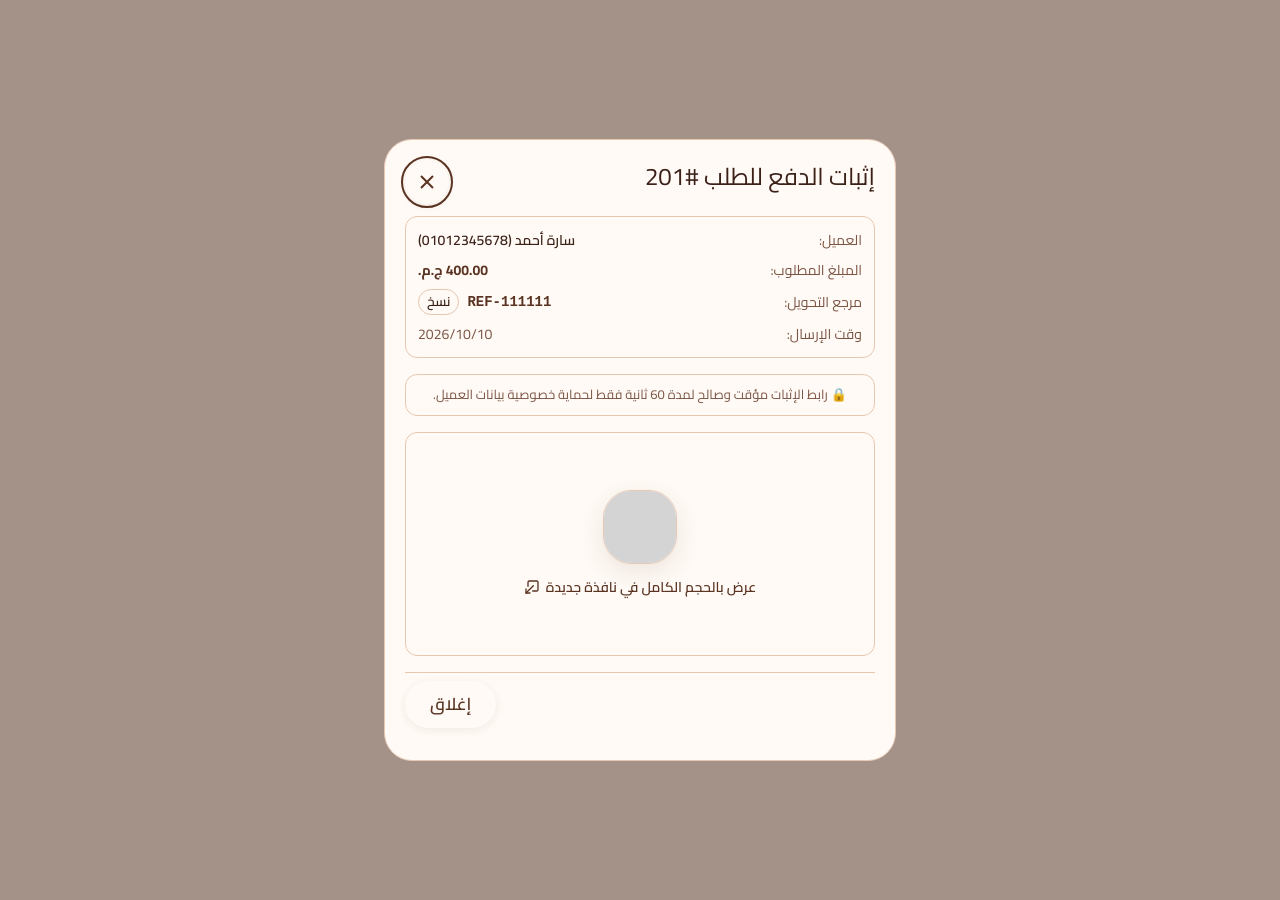
Scenario: ProofViewerModal standalone › renders copy reference button and allows copy
Expected: the text "REF-111111" is shown, [467,291,551,313]
Click the button "نسخ" at (439, 302), box [418,289,459,315]
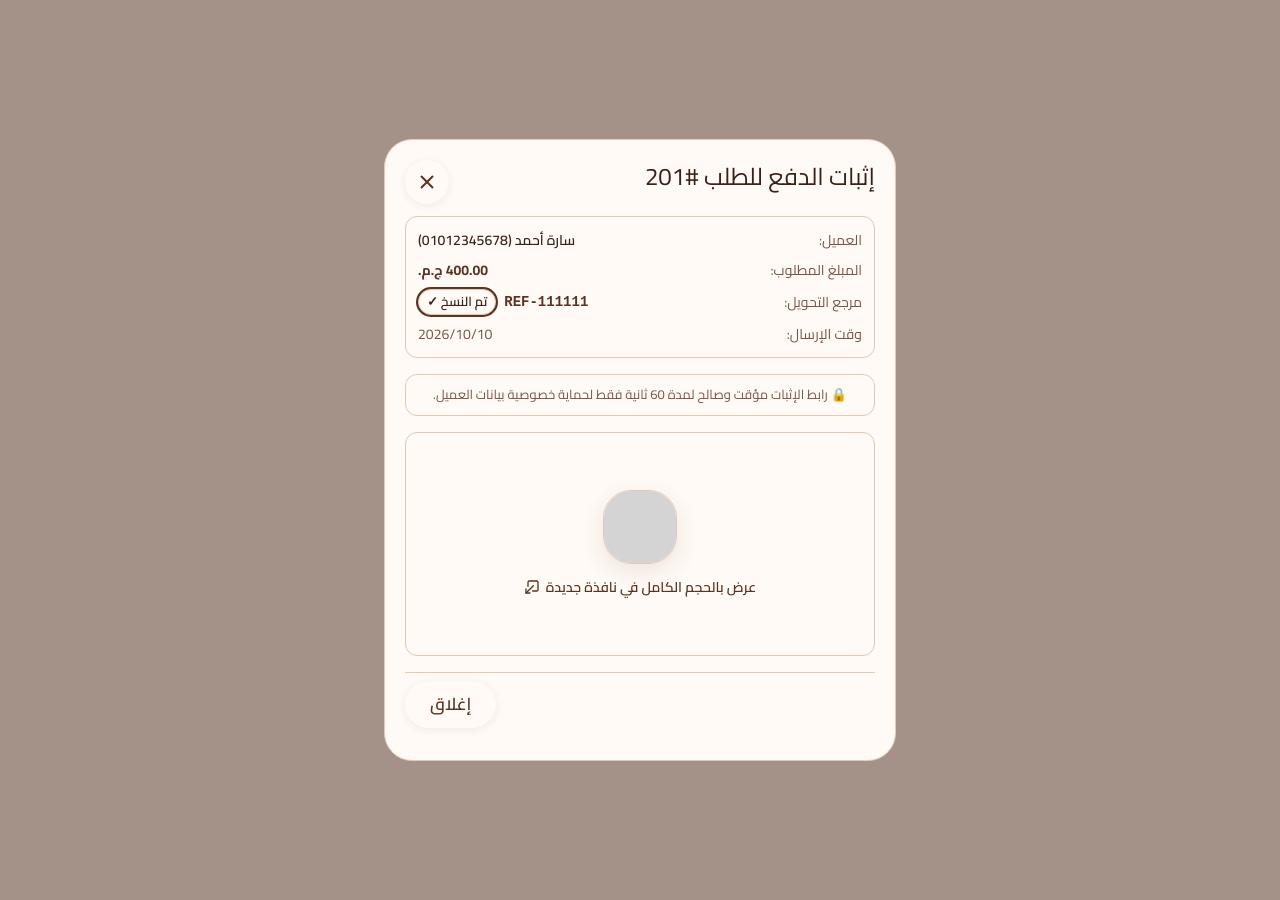
Expected: the button "تم النسخ ✓" is shown, [418,289,496,315]
